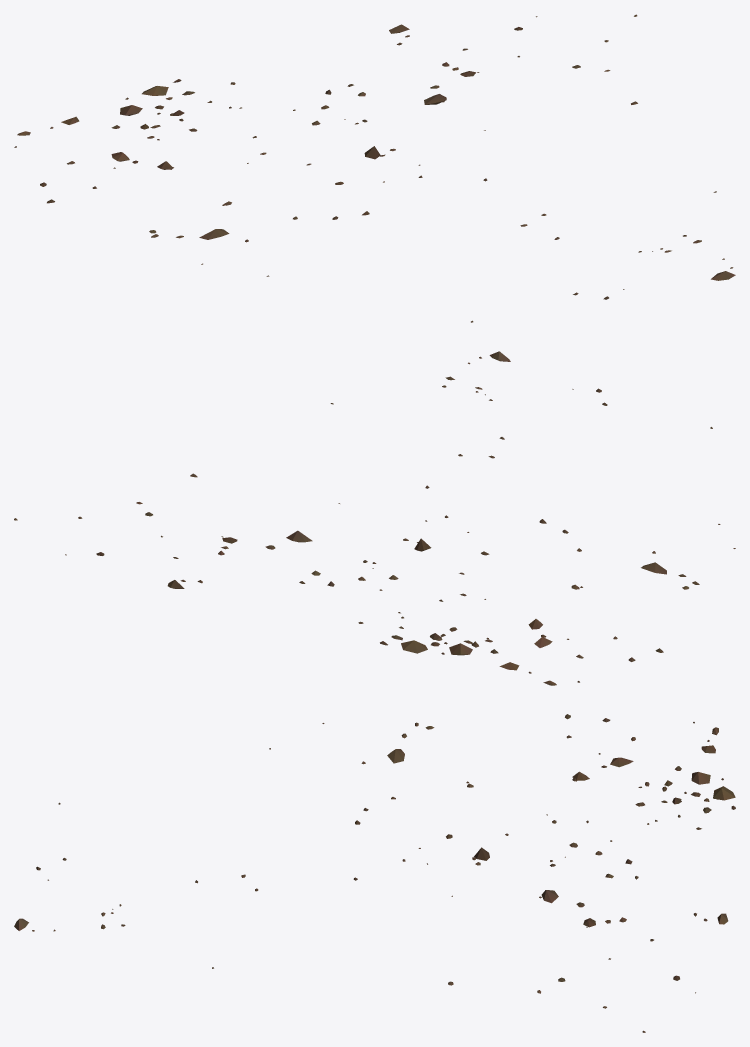
Rendered from ground-1-2-BhPisaEm.glb.
3 views of the same model, one above another, from view 1: azimuth 30°, elevation 25°; view 2: azimuth 150°, elevation 25°; view 3: azimuth 270°, elevation 25° (orthographic). The views are drawn at different scales.
Visible parts, largest first — view 1: ground-1-2; view 2: ground-1-2; view 3: ground-1-2.
Part boxes in pixels (bbox=[...]): ground-1-2: bbox=[14, 14, 735, 322]; ground-1-2: bbox=[14, 351, 735, 685]; ground-1-2: bbox=[14, 714, 735, 1032].
Size of the model in its own units: 18.27 by 0.7 by 17.
